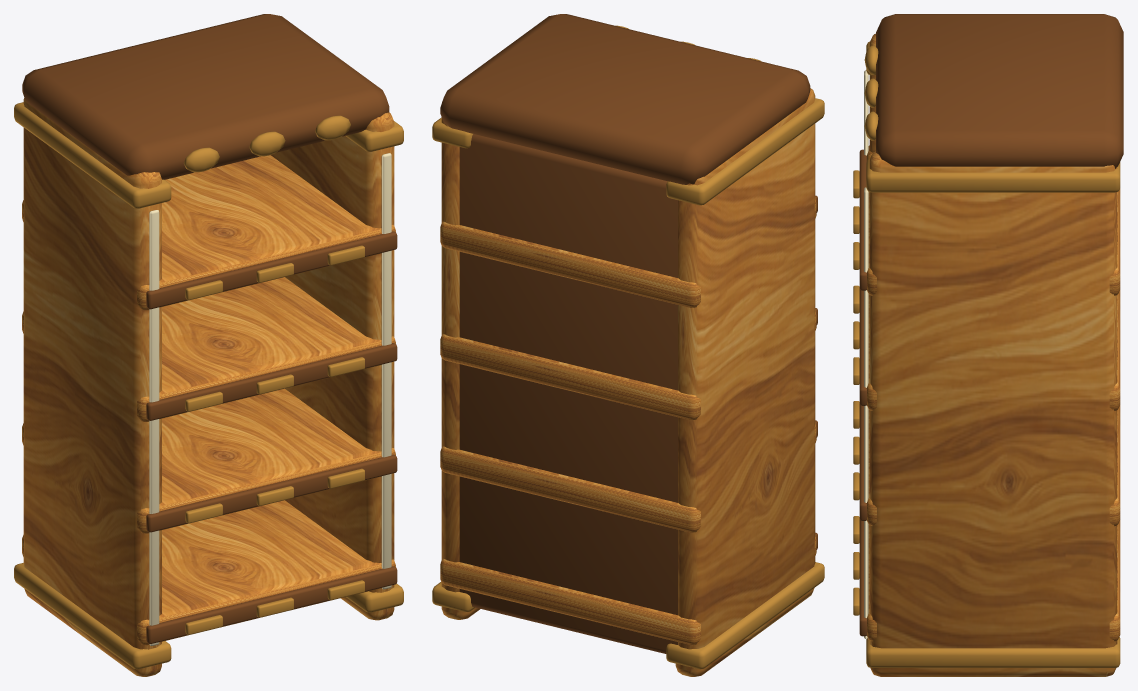
File: relic.glb
3 renders of one model, left to right at view 1: azimuth 30°, elevation 25°; view 2: azimuth 150°, elevation 25°; view 3: azimuth 270°, elevation 25°, orthographic. The views are drawn at different scales.
Visible parts, largest first — view 1: relic; view 2: relic; view 3: relic.
Boxes of the visible parts, x1=… form: relic: x1=14, y1=14, x2=403, y2=676; relic: x1=432, y1=14, x2=824, y2=676; relic: x1=853, y1=14, x2=1123, y2=676.
Bounding box in the file's own units: 0.99 × 1.84 × 0.83.
4 materials, 1 textured.
